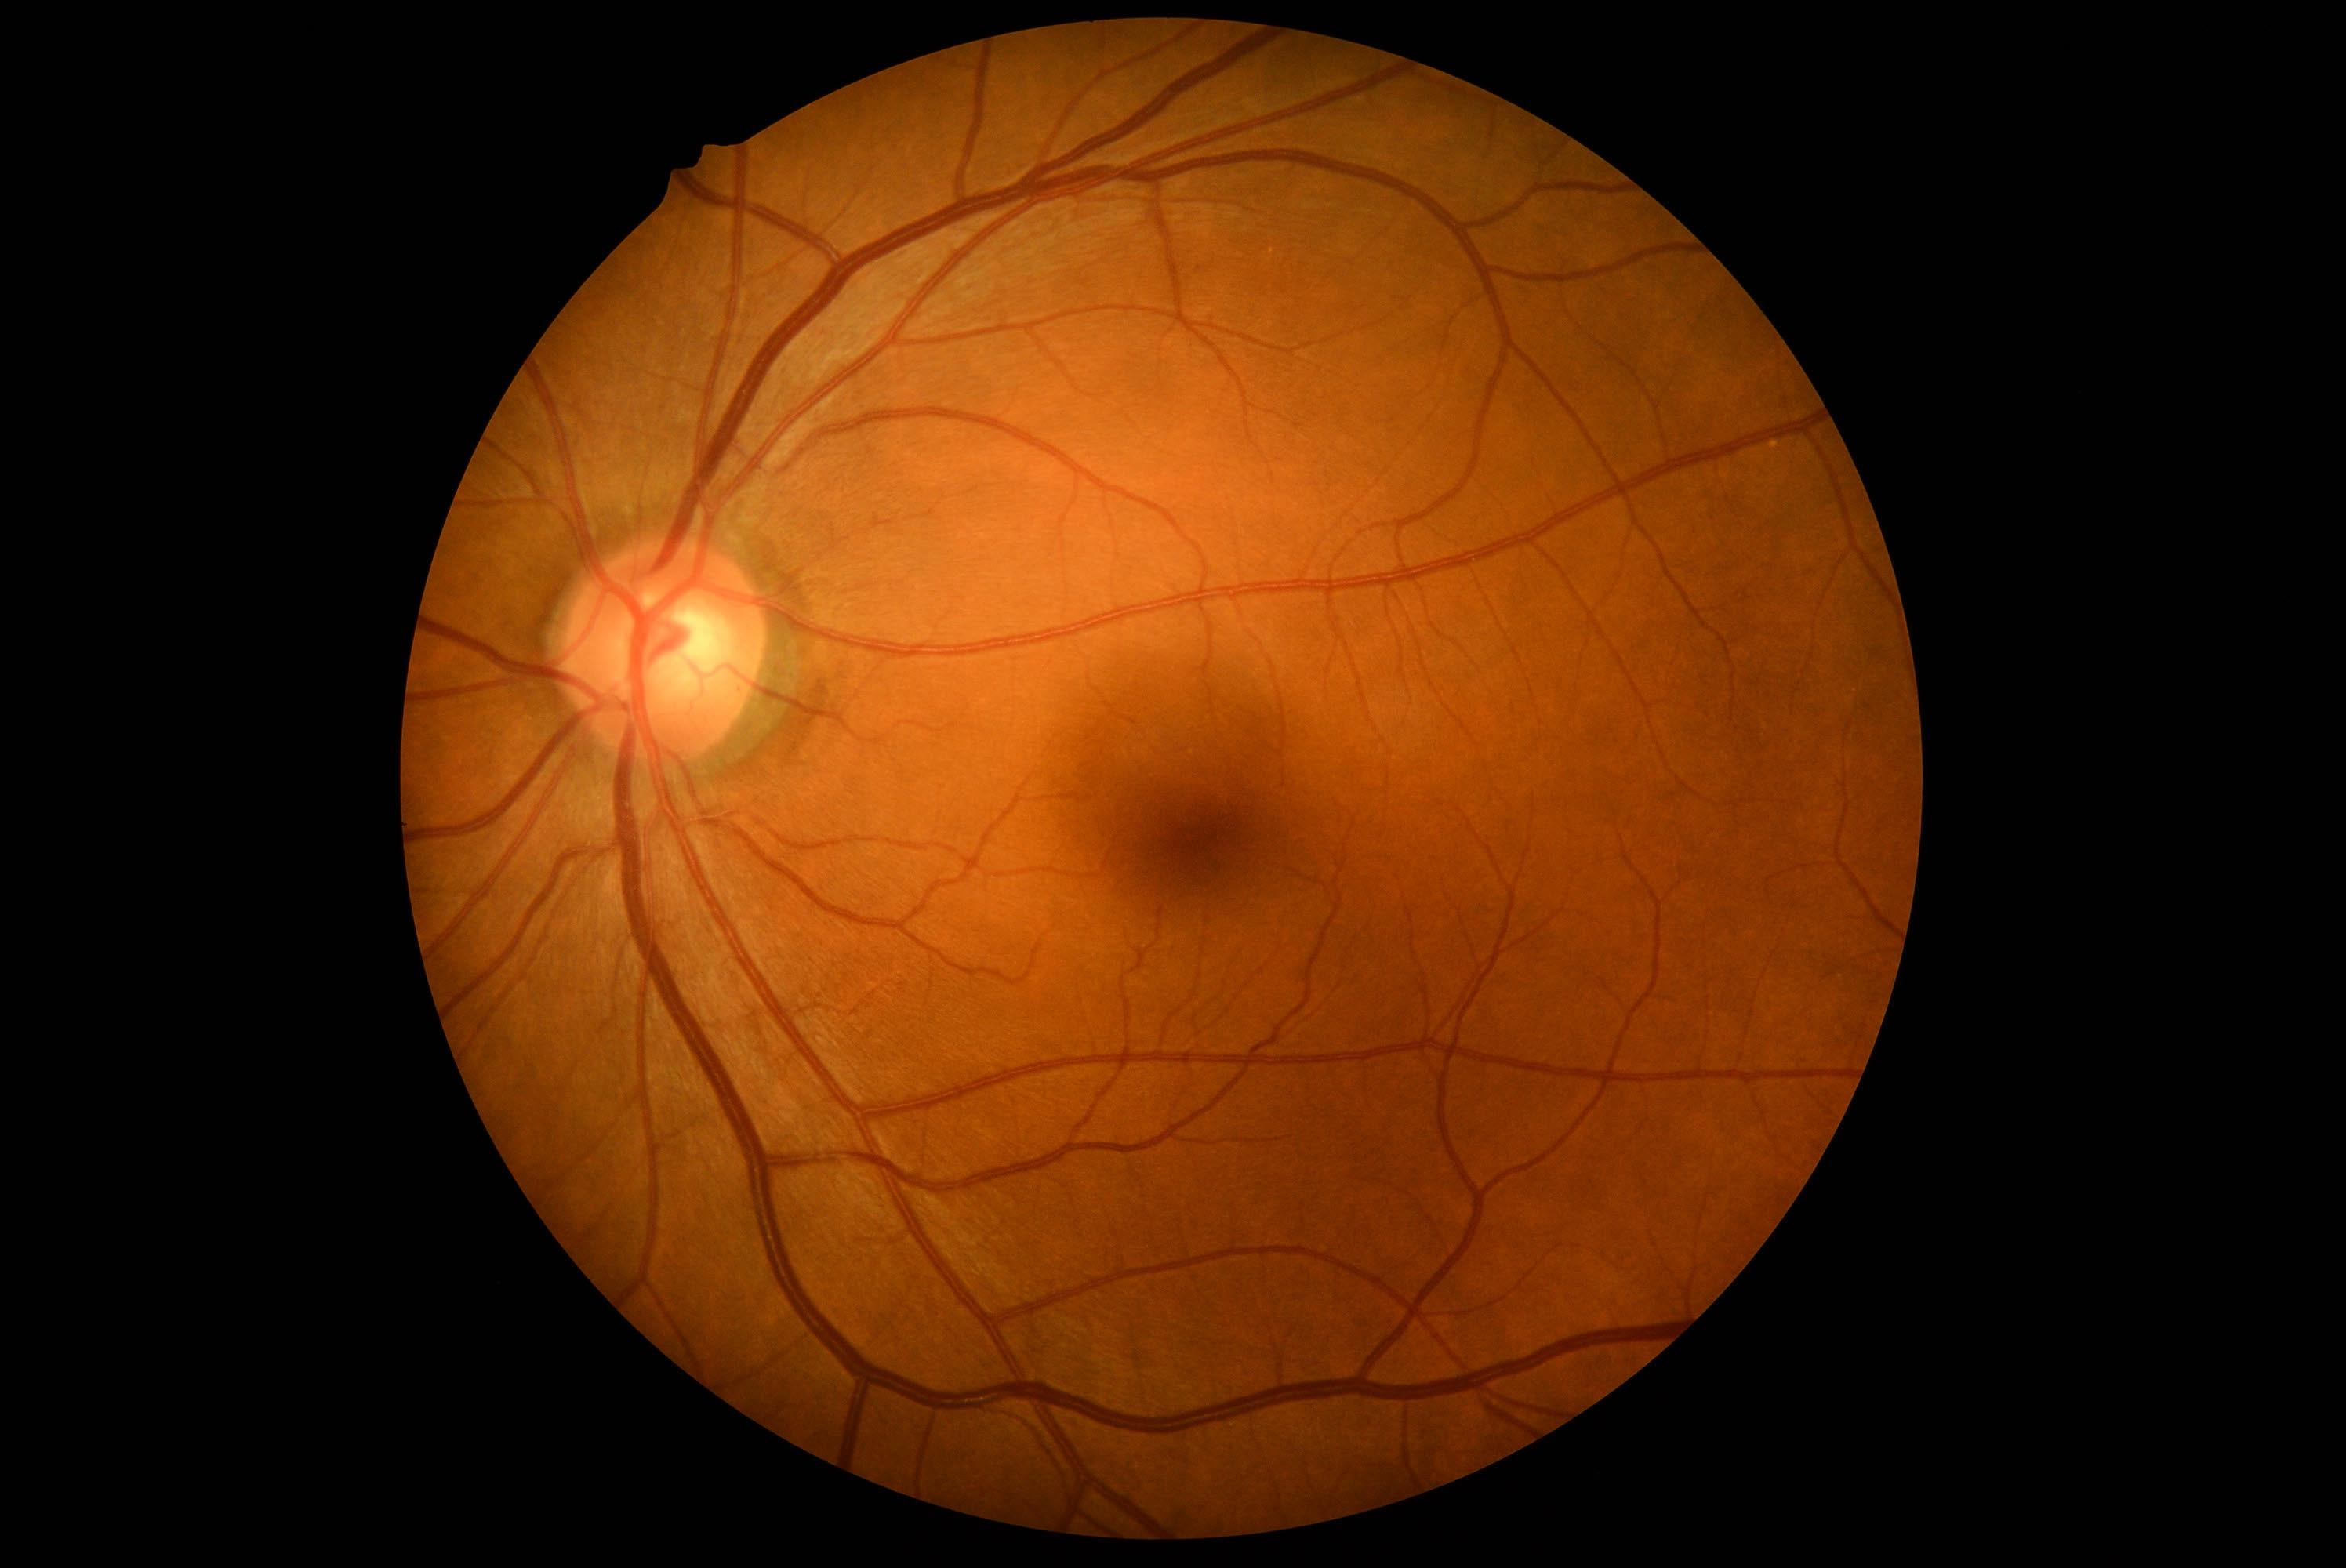Fovea: (1125, 761, 1284, 910)
